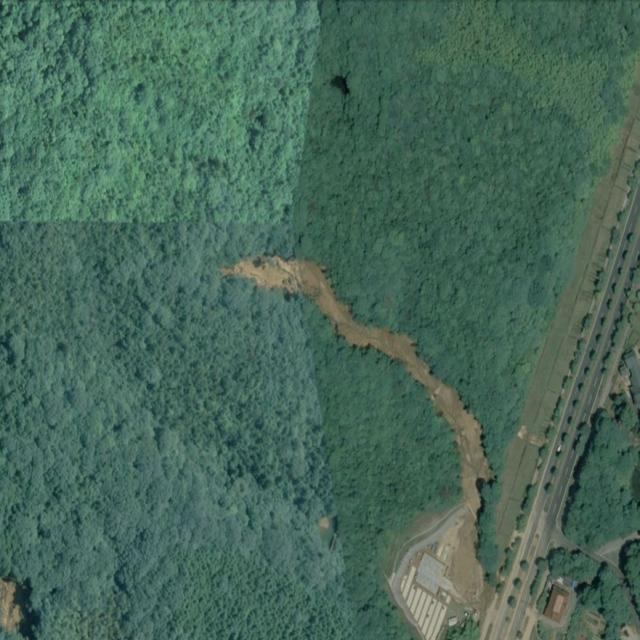landslide: (223, 256, 493, 521)
